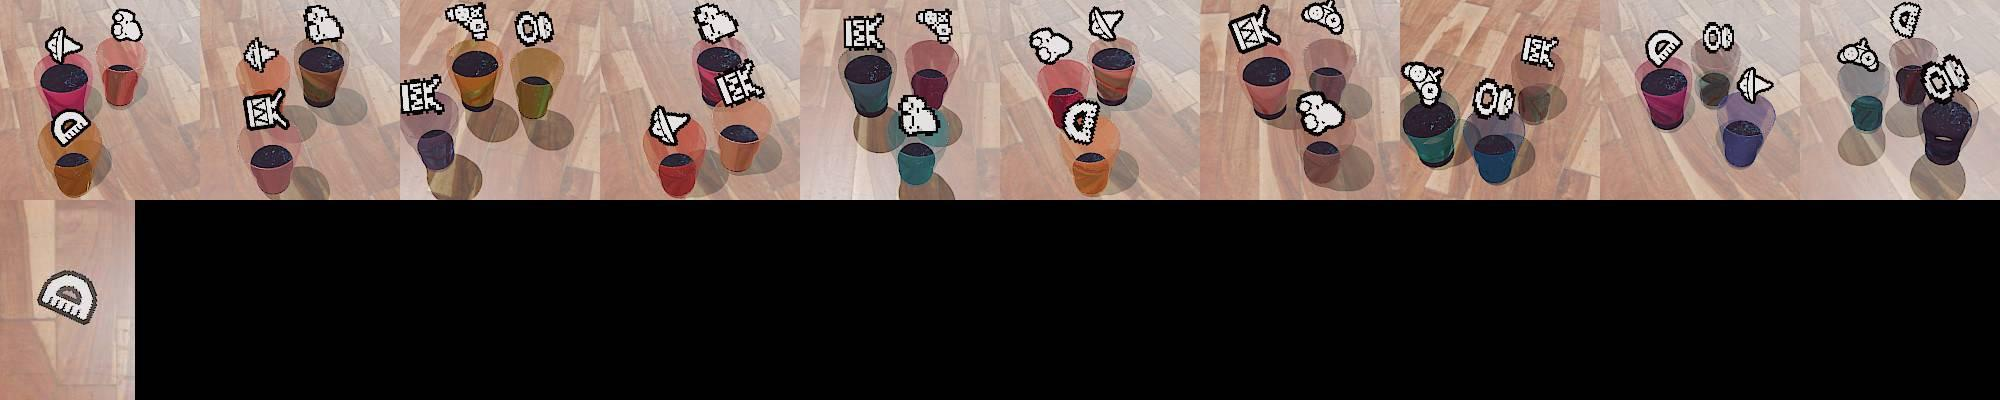icon: (36, 269, 99, 325), (713, 60, 765, 110), (1228, 4, 1278, 54), (1921, 55, 1971, 102), (1295, 89, 1346, 135), (241, 88, 290, 132), (1471, 76, 1518, 121), (401, 73, 445, 118), (898, 93, 941, 139), (1402, 61, 1445, 107), (693, 3, 740, 45), (443, 3, 491, 42), (1061, 98, 1101, 144), (649, 104, 690, 148), (843, 11, 885, 52), (302, 4, 344, 45), (1029, 27, 1074, 65), (1644, 28, 1684, 70), (514, 9, 555, 48), (50, 108, 92, 146), (1300, 0, 1344, 36), (1520, 32, 1560, 70), (915, 6, 955, 43), (1837, 37, 1880, 71), (46, 25, 84, 64), (1735, 66, 1773, 104), (242, 37, 279, 73), (1089, 6, 1124, 42), (1702, 20, 1736, 55), (110, 8, 143, 43), (1892, 3, 1923, 39)
